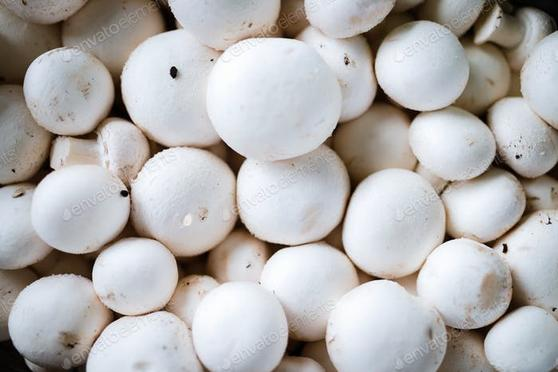champignon: (209, 37, 348, 161), (342, 165, 447, 283), (318, 279, 447, 372), (130, 146, 238, 252), (3, 271, 115, 372), (411, 237, 512, 330), (198, 279, 294, 372), (36, 164, 133, 256)
